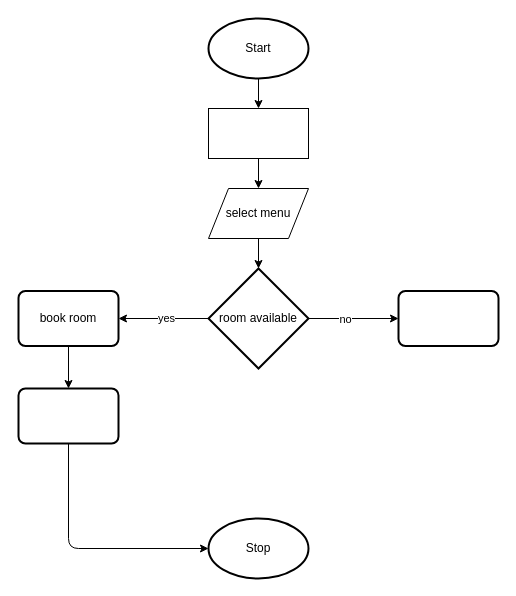
Image size: 516x596. Some labels were removed from this diagram. The box of each missing label's shape, as (x1, y1, x2, y2) in pixels:
display result: (17, 387, 119, 444)
show error: (397, 290, 499, 346)
Show menu: (208, 108, 308, 158)
